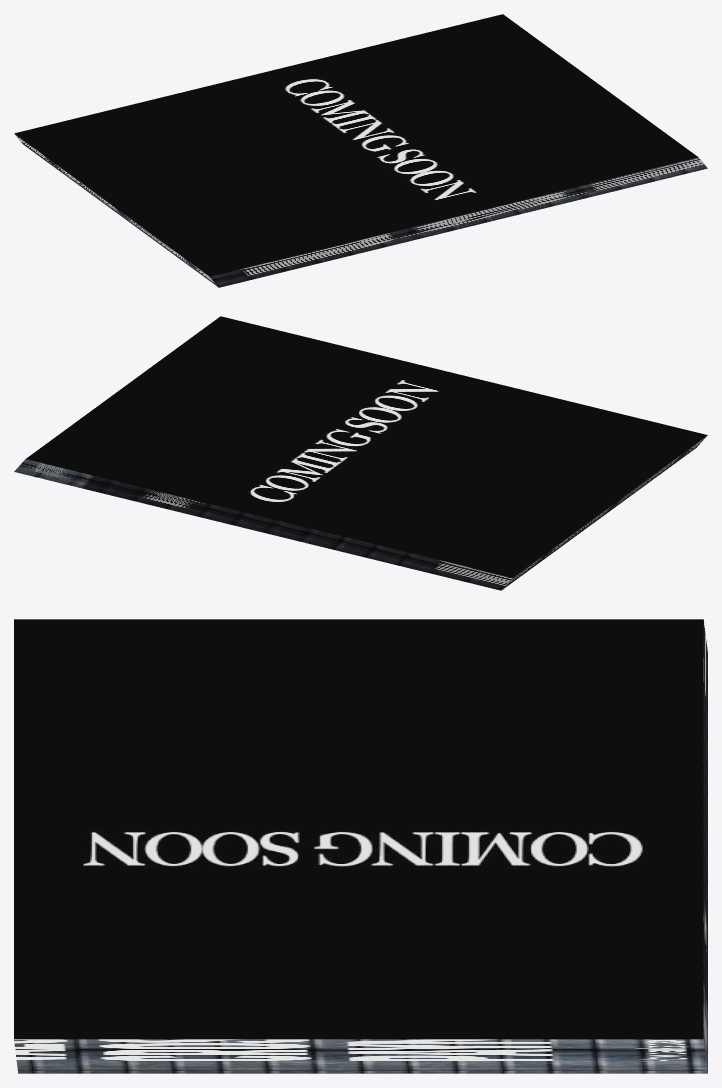
File: pdf-cover2.glb
The picture shows the model from 3 angles, top to bottom: view 1: azimuth 30°, elevation 25°; view 2: azimuth 150°, elevation 25°; view 3: azimuth 270°, elevation 25°; orthographic projection. The views are drawn at different scales.
Visible parts, largest first — view 1: Cube.001; view 2: Cube.001; view 3: Cube.001.
Boxes of the visible parts, left/top/right/bottom form: Cube.001: left=14, top=14, right=707, bottom=287; Cube.001: left=14, top=316, right=707, bottom=590; Cube.001: left=14, top=619, right=707, bottom=1073.
Bounding box in the file's own units: 0.178 × 0.00492 × 0.1216.
Materials: 2 (2 with a texture image).
